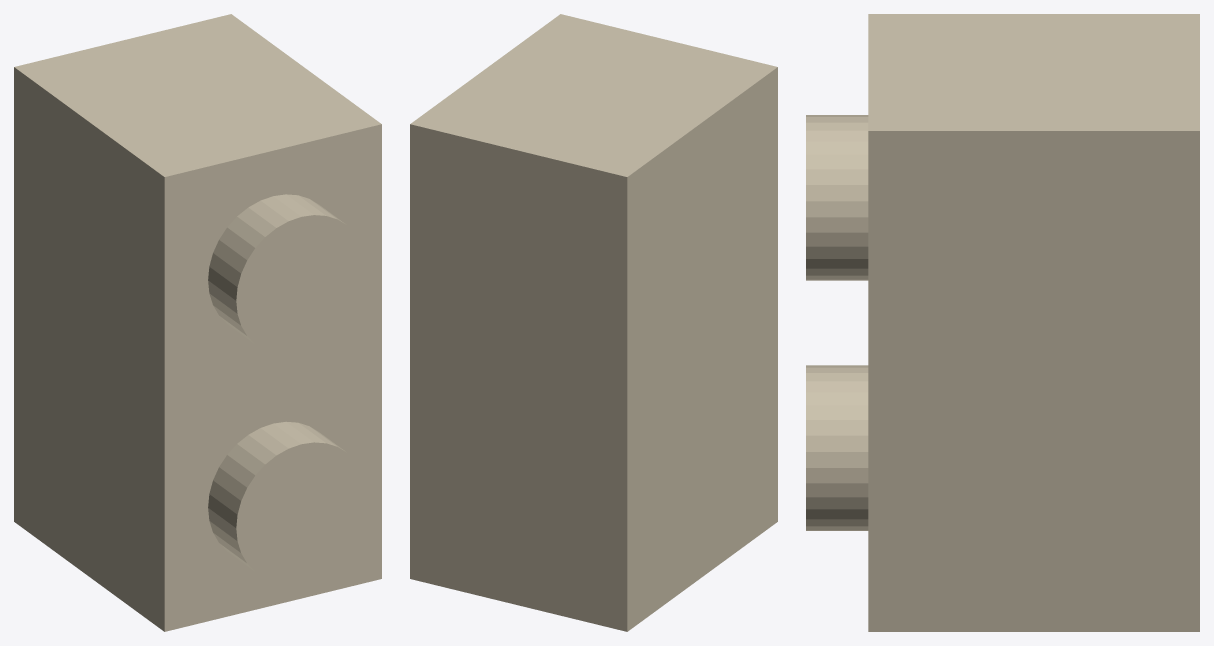
The model's file is brick_4.glb.
The picture shows the model from 3 angles, left to right: view 1: azimuth 30°, elevation 25°; view 2: azimuth 150°, elevation 25°; view 3: azimuth 270°, elevation 25°; orthographic projection. The views are drawn at different scales.
Visible parts, largest first — view 1: world; view 2: world; view 3: world.
Part boxes in pixels (x1,y1,x2,y2): world: [14, 14, 381, 631]; world: [410, 14, 777, 631]; world: [806, 14, 1199, 631].
Size of the model in its own units: 8 by 16 by 11.4.
